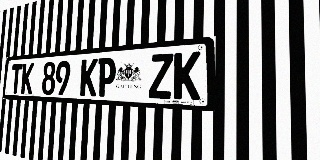8: (41, 61, 56, 95)
9: (55, 60, 71, 95)
K: (173, 51, 201, 100), (80, 58, 98, 96), (21, 63, 34, 94)
P: (96, 57, 116, 97)
T: (10, 64, 23, 94)
Z: (148, 53, 173, 99)
